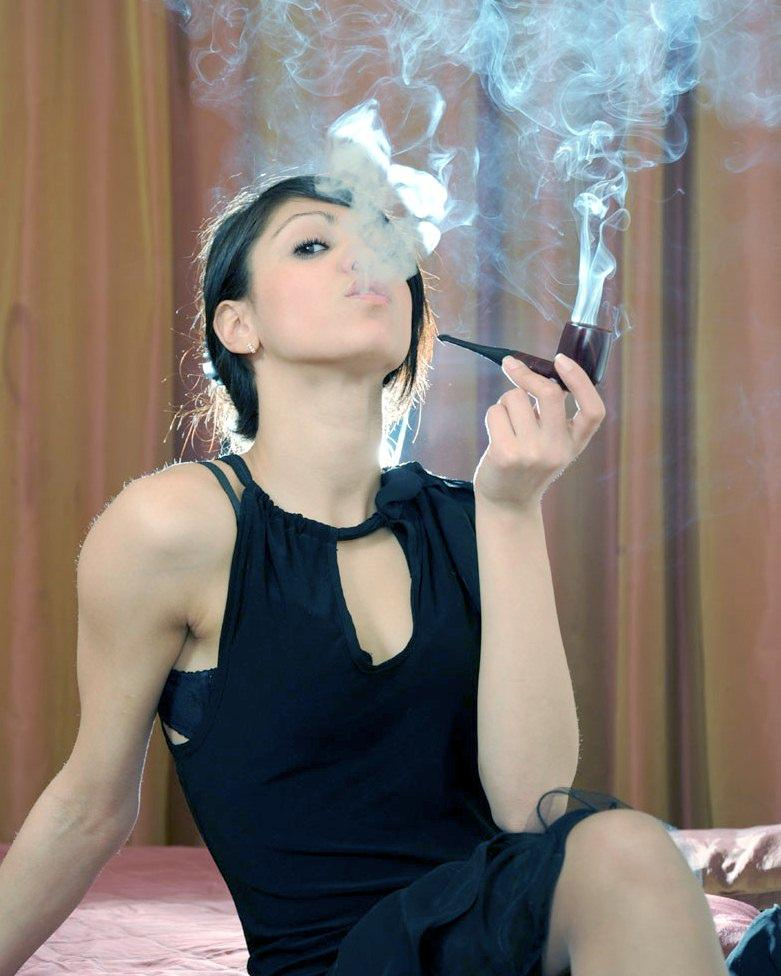trubka: (438, 320, 614, 391)
